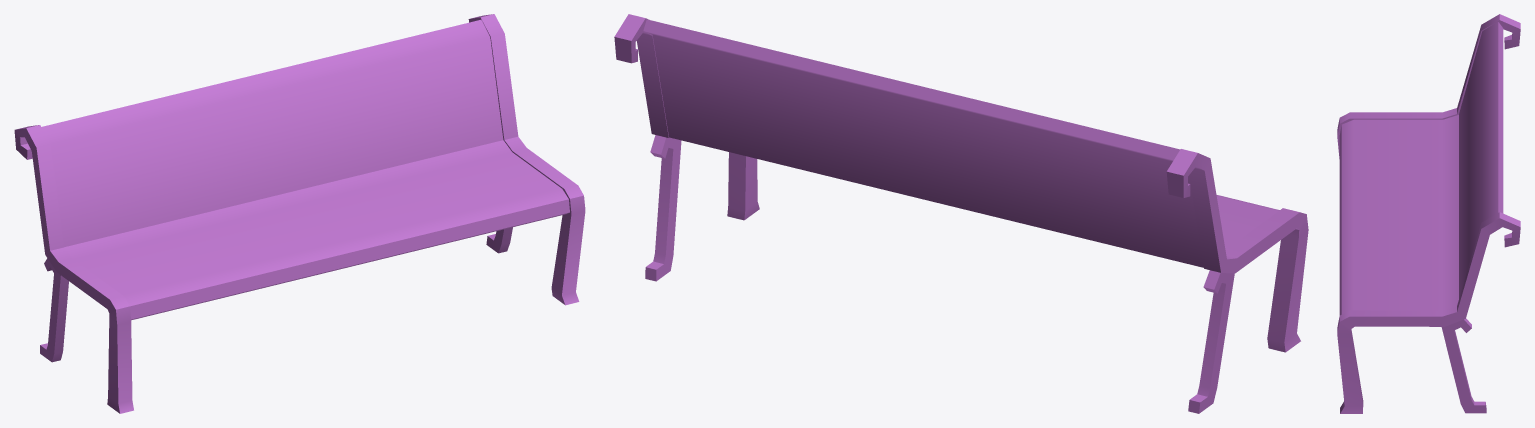
File: ParkBench.fbx
3 renders of one model, left to right at view 1: azimuth 30°, elevation 25°; view 2: azimuth 150°, elevation 25°; view 3: azimuth 270°, elevation 25°, orthographic. The views are drawn at different scales.
Parts seen in each view (by area): view 1: ParkBench; view 2: ParkBench; view 3: ParkBench.
Boxes of the visible parts, x1,y1,x2,y2 form: ParkBench: [14, 14, 585, 413]; ParkBench: [614, 14, 1308, 413]; ParkBench: [1337, 14, 1520, 413].
Bounding box in the file's own units: 212 × 95.96 × 80.59.
